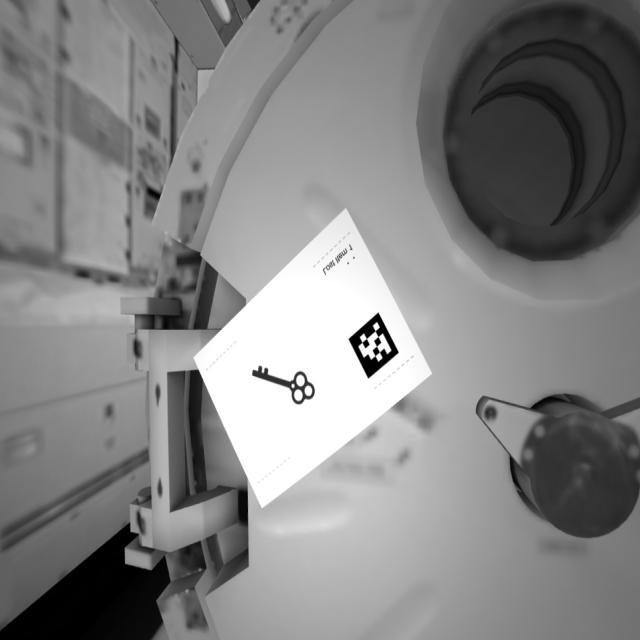key: (242, 356, 323, 410)
